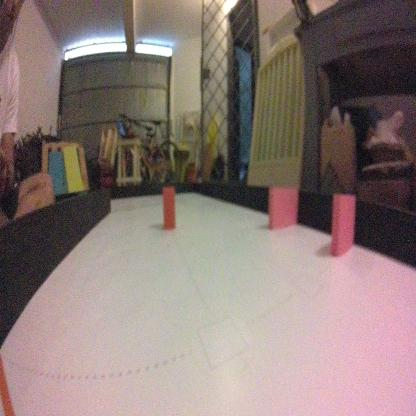magenta: (330, 192, 354, 256), (266, 184, 298, 230)
red: (161, 183, 175, 231)
